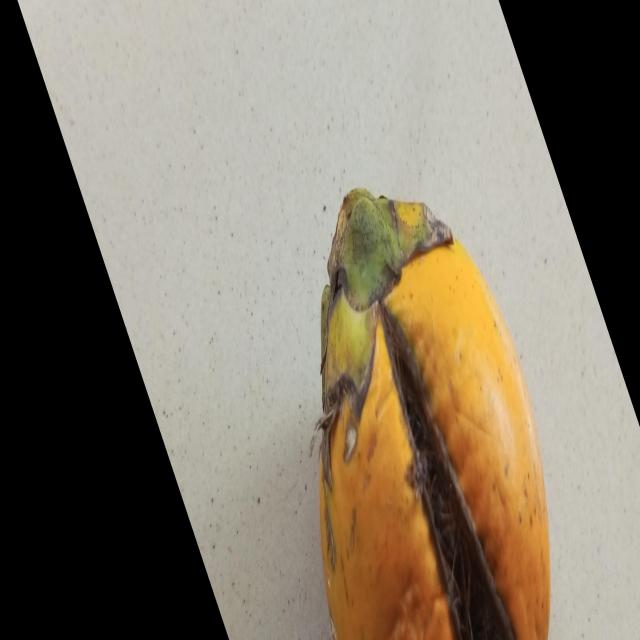damaged: (318, 190, 551, 640)
